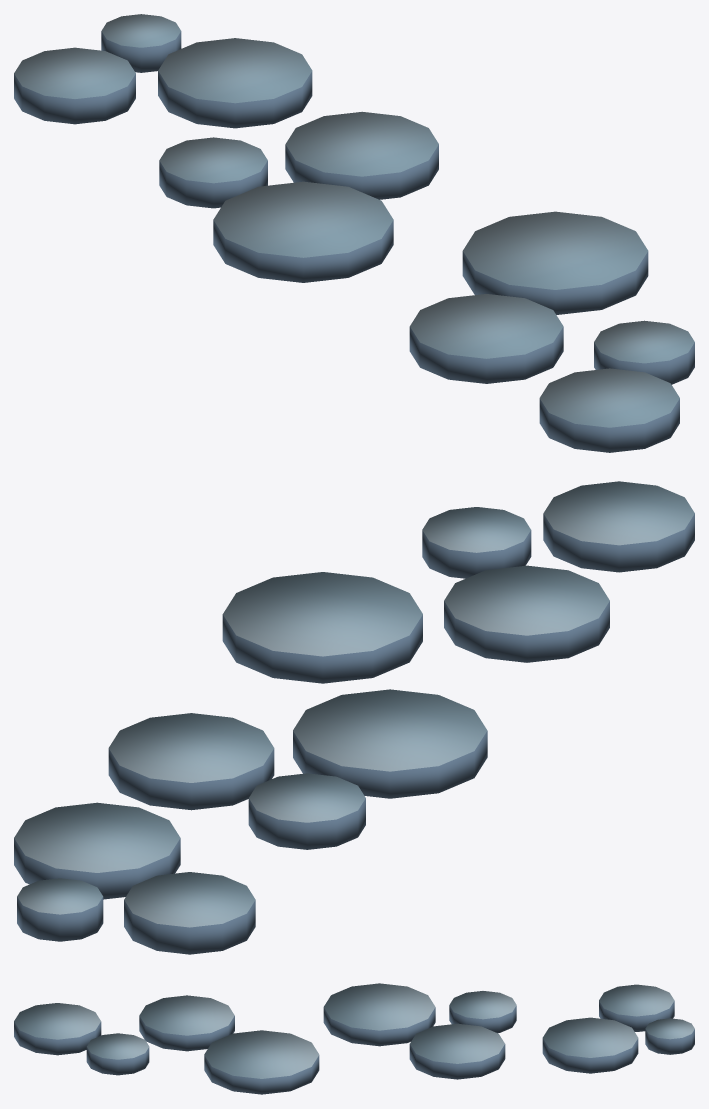
Rendered from rockpath2.fbx.
3 renders of one model, top to bottom at view 1: azimuth 30°, elevation 25°; view 2: azimuth 150°, elevation 25°; view 3: azimuth 270°, elevation 25°, orthographic. The views are drawn at different scales.
Parts seen in each view (by area): view 1: Cylinder.015; view 2: Cylinder.015; view 3: Cylinder.015.
Boxes of the visible parts, x1,y1,x2,y2 form: Cylinder.015: (14,14,694,452); Cylinder.015: (14,481,694,954); Cylinder.015: (14,983,694,1094).
Bounding box in the file's own units: 27.34 × 2.08 × 82.26.
